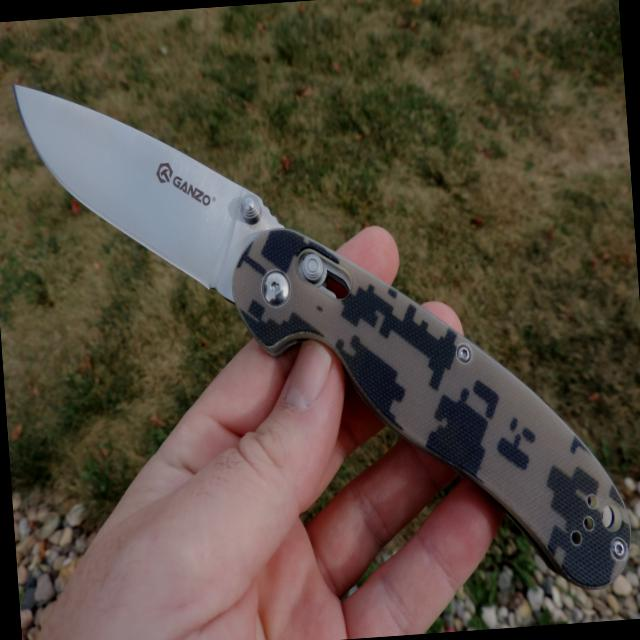knife: (2, 34, 428, 472)
